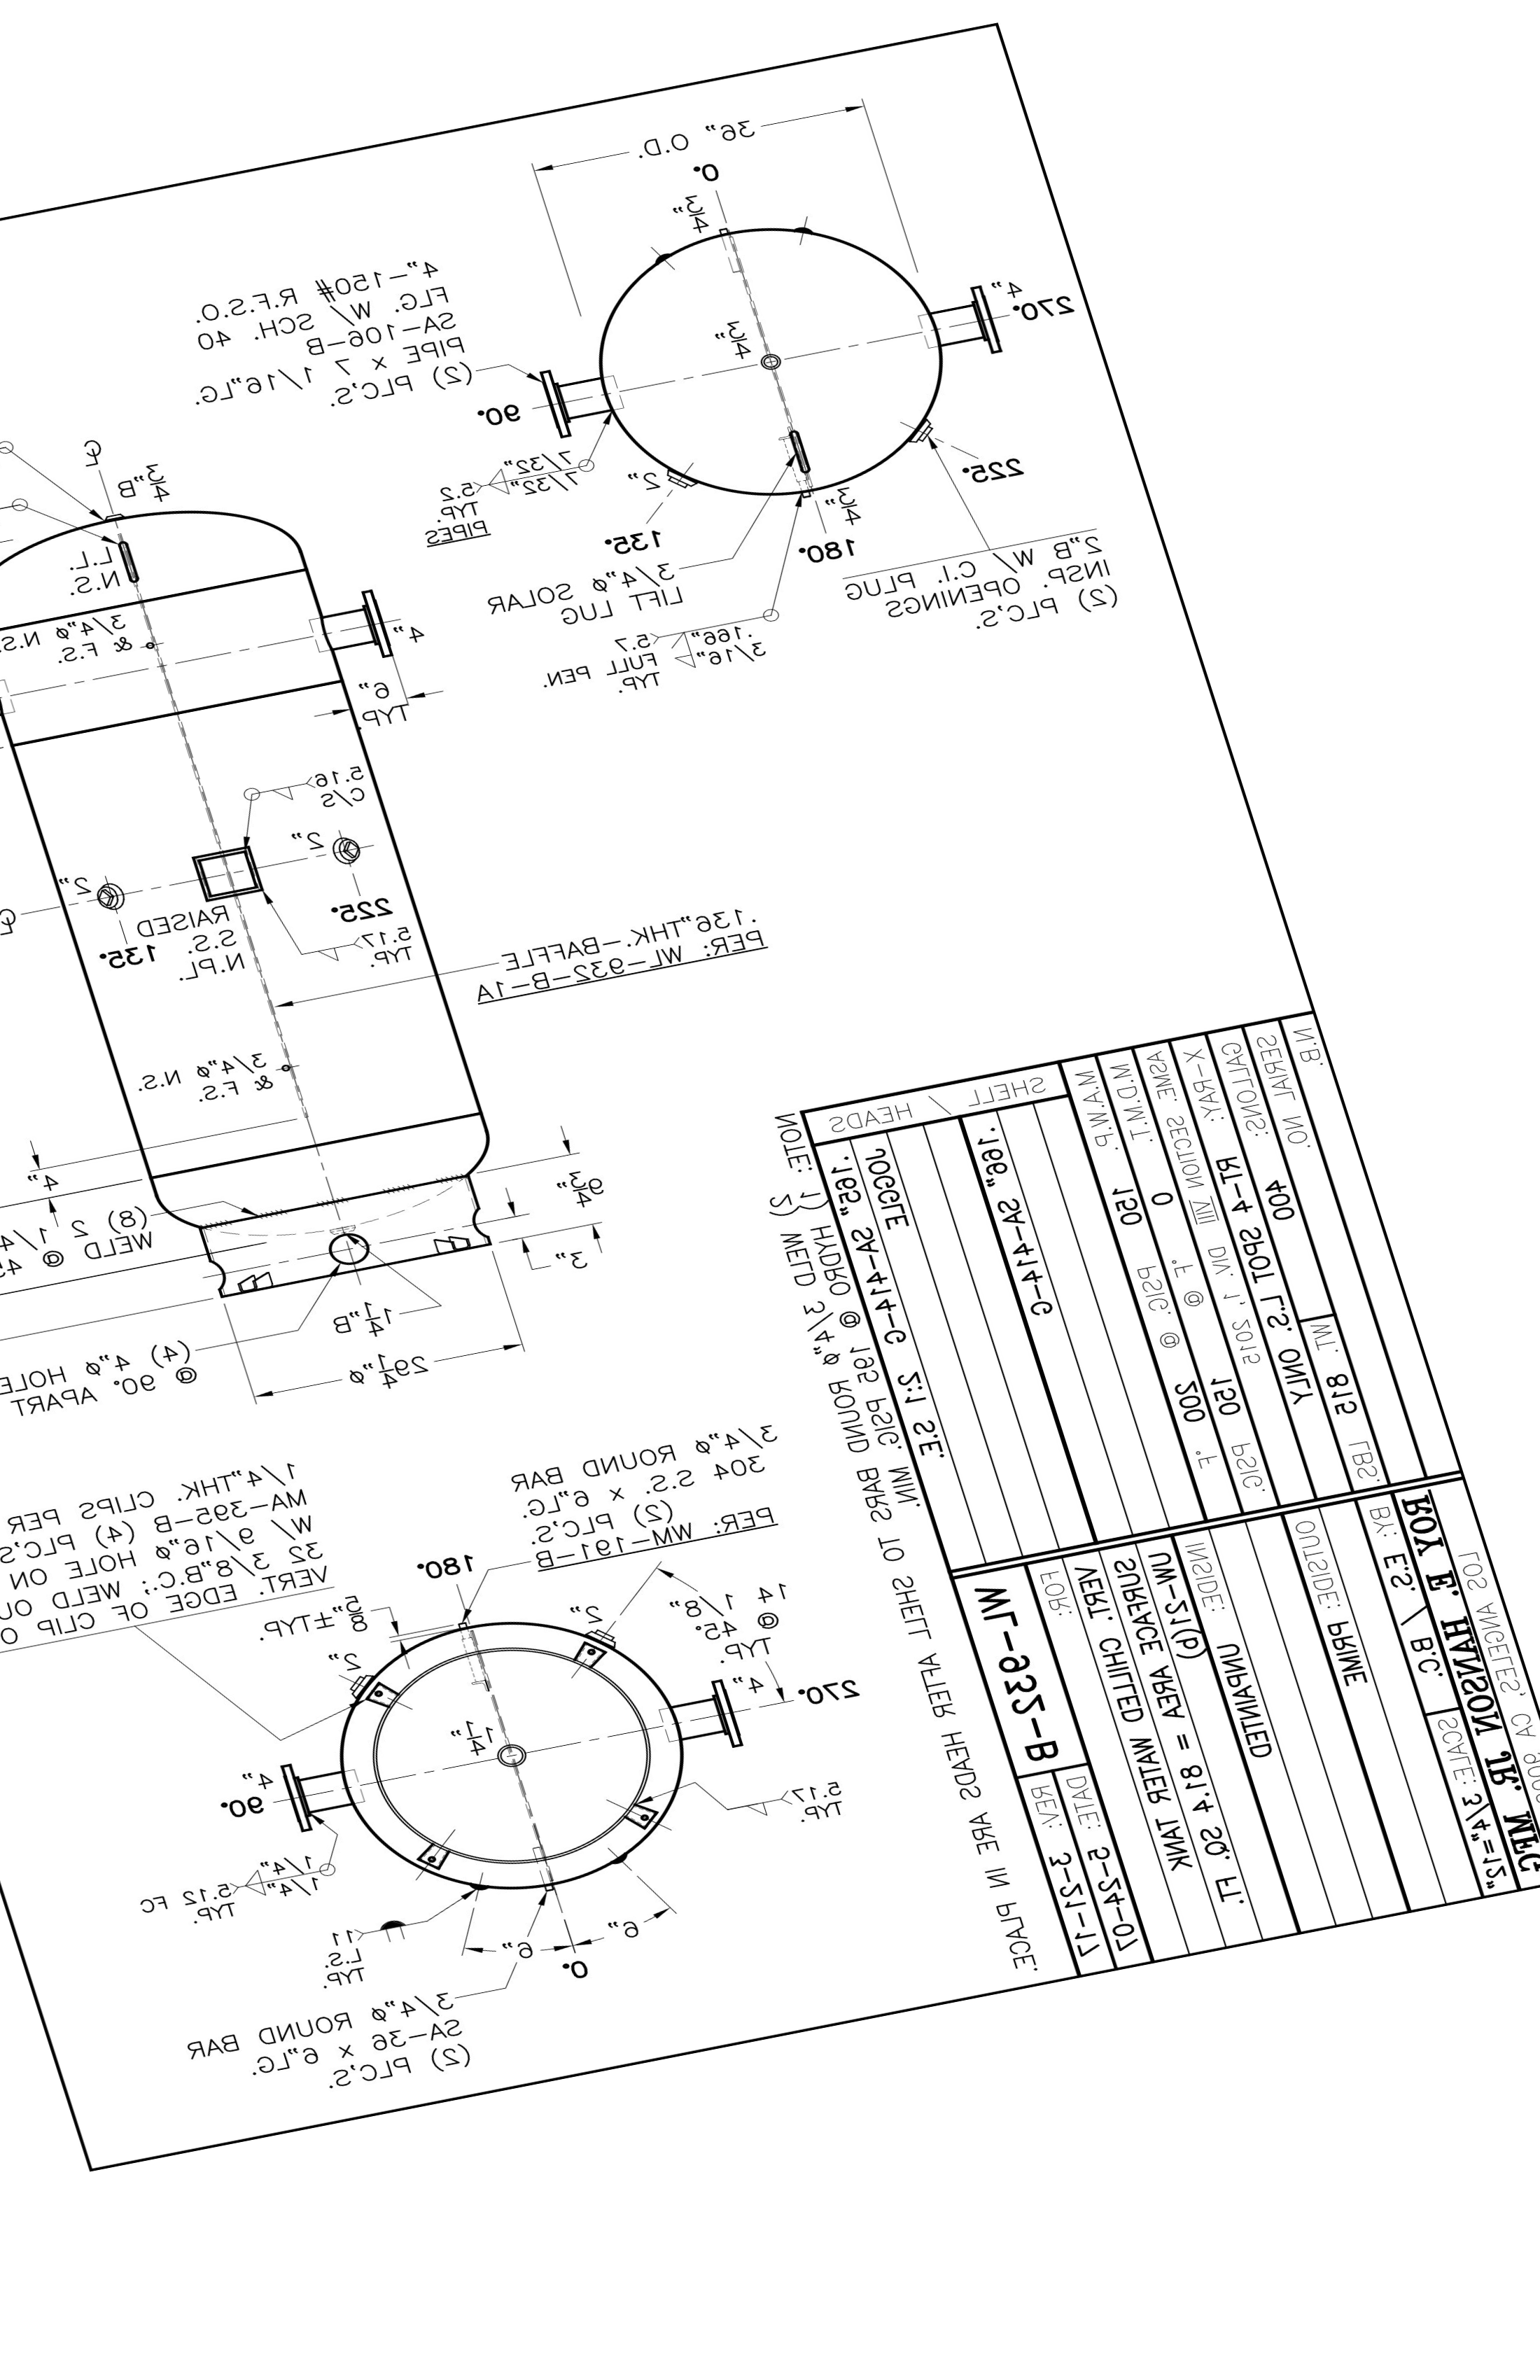Nozzle: (305, 541, 401, 722), (241, 1743, 394, 1851), (626, 1667, 770, 1778), (501, 356, 630, 477), (890, 276, 1027, 389)
